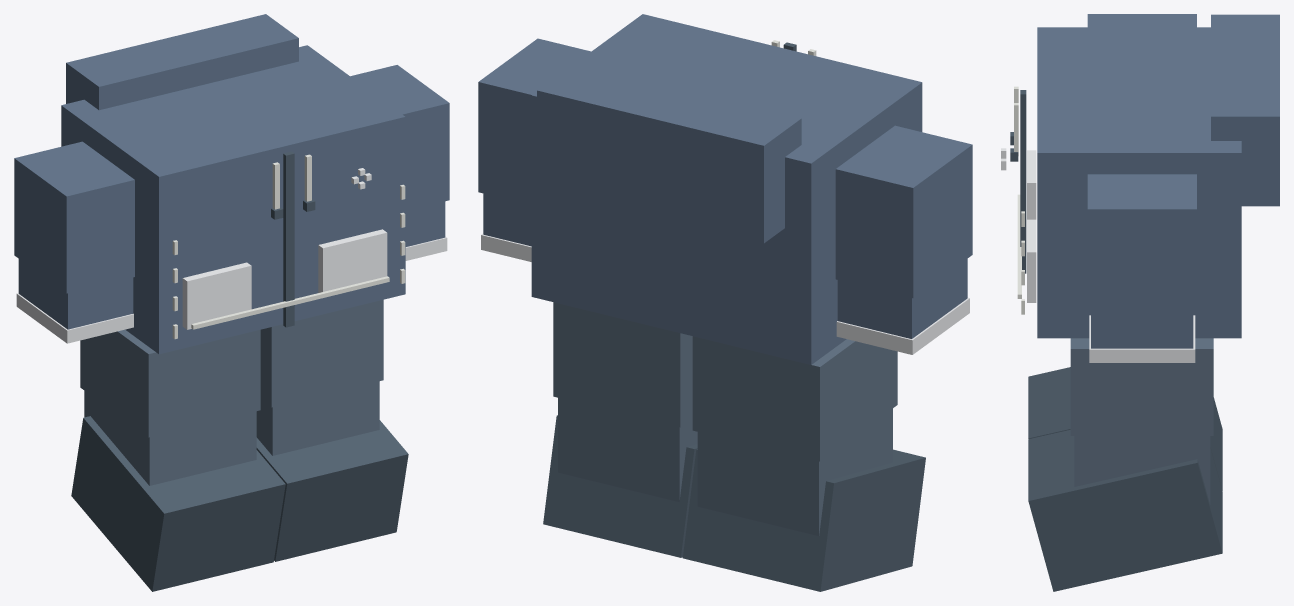
Rendered from hoodie-navy.glb.
The picture shows the model from 3 angles, left to right: view 1: azimuth 30°, elevation 25°; view 2: azimuth 150°, elevation 25°; view 3: azimuth 270°, elevation 25°; orthographic projection. The views are drawn at different scales.
Visible parts, largest first — view 1: jacket, shoe-Right, upper-sleeve-Right, trouser-Right, shoe-Left, hood-back, trouser-Left, lower-trouser-Right, upper-sleeve-Left, lower-trouser-Left, lower-sleeve-Right, pocket--1 (+6 smaller); view 2: jacket, hood-back, upper-sleeve-Right, trouser-Right, shoe-Right, trouser-Left, lower-trouser-Right, lower-trouser-Left, upper-sleeve-Left, shoe-Left, lower-sleeve-Right, cuff-Right (+2 smaller); view 3: jacket, shoe-Left, upper-sleeve-Left, trouser-Left, hood-back, lower-trouser-Left, lower-sleeve-Left, shoe-Right, cuff-Left, upper-sleeve-Right, zip, pocket-1 (+2 smaller).
Part boxes in pixels (<box>): jacket: <box>61,45,405,354</box>; shoe-Right: <box>71,416,285,591</box>; upper-sleeve-Right: <box>14,141,134,293</box>; trouser-Right: <box>80,329,260,437</box>; shoe-Left: <box>256,420,408,561</box>; hood-back: <box>66,14,298,110</box>; trouser-Left: <box>260,299,383,407</box>; lower-trouser-Right: <box>84,391,256,485</box>; upper-sleeve-Left: <box>350,65,449,210</box>; lower-trouser-Left: <box>256,381,379,455</box>; lower-sleeve-Right: <box>18,259,133,329</box>; pocket--1: <box>182,262,251,329</box>; jacket: <box>531,14,922,364</box>; hood-back: <box>537,63,801,243</box>; upper-sleeve-Right: <box>835,125,972,298</box>; trouser-Right: <box>692,336,897,461</box>; shoe-Right: <box>682,449,925,591</box>; trouser-Left: <box>553,302,692,427</box>; lower-trouser-Right: <box>697,408,892,535</box>; lower-trouser-Left: <box>558,398,697,501</box>; upper-sleeve-Left: <box>478,38,590,204</box>; shoe-Left: <box>543,415,697,557</box>; lower-sleeve-Right: <box>837,259,967,338</box>; cuff-Right: <box>836,297,969,354</box>; jacket: <box>1037,27,1241,338</box>; shoe-Left: <box>1028,429,1222,591</box>; upper-sleeve-Left: <box>1087,174,1196,310</box>; trouser-Left: <box>1070,338,1213,435</box>; hood-back: <box>1211,14,1279,206</box>; lower-trouser-Left: <box>1074,436,1210,504</box>; lower-sleeve-Left: <box>1091,310,1193,348</box>; shoe-Right: <box>1028,367,1222,490</box>; cuff-Left: <box>1089,315,1195,362</box>; upper-sleeve-Right: <box>1087,14,1196,27</box>; zip: <box>1020,90,1026,273</box>; pocket-1: <box>1027,219,1036,302</box>.
Size of the model in its own units: 1.07 by 1.19 by 0.648.
